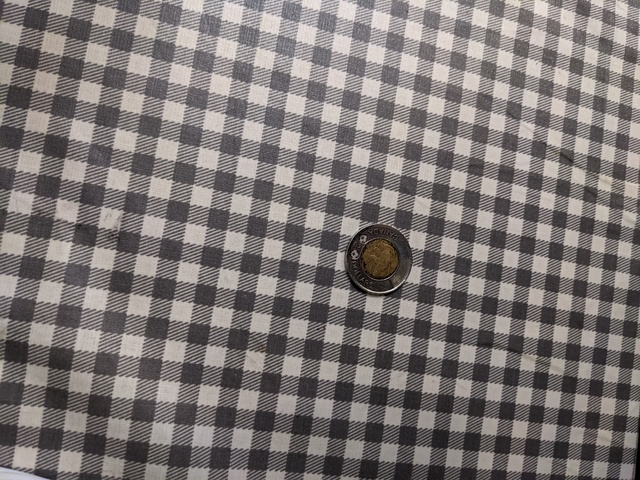twonie: (342, 217, 419, 300)
